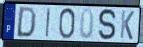0: (79, 8, 95, 40)
D: (15, 6, 38, 39)
I: (45, 7, 52, 39)
K: (119, 9, 136, 41)
O: (58, 7, 77, 40)
S: (98, 7, 117, 42)
